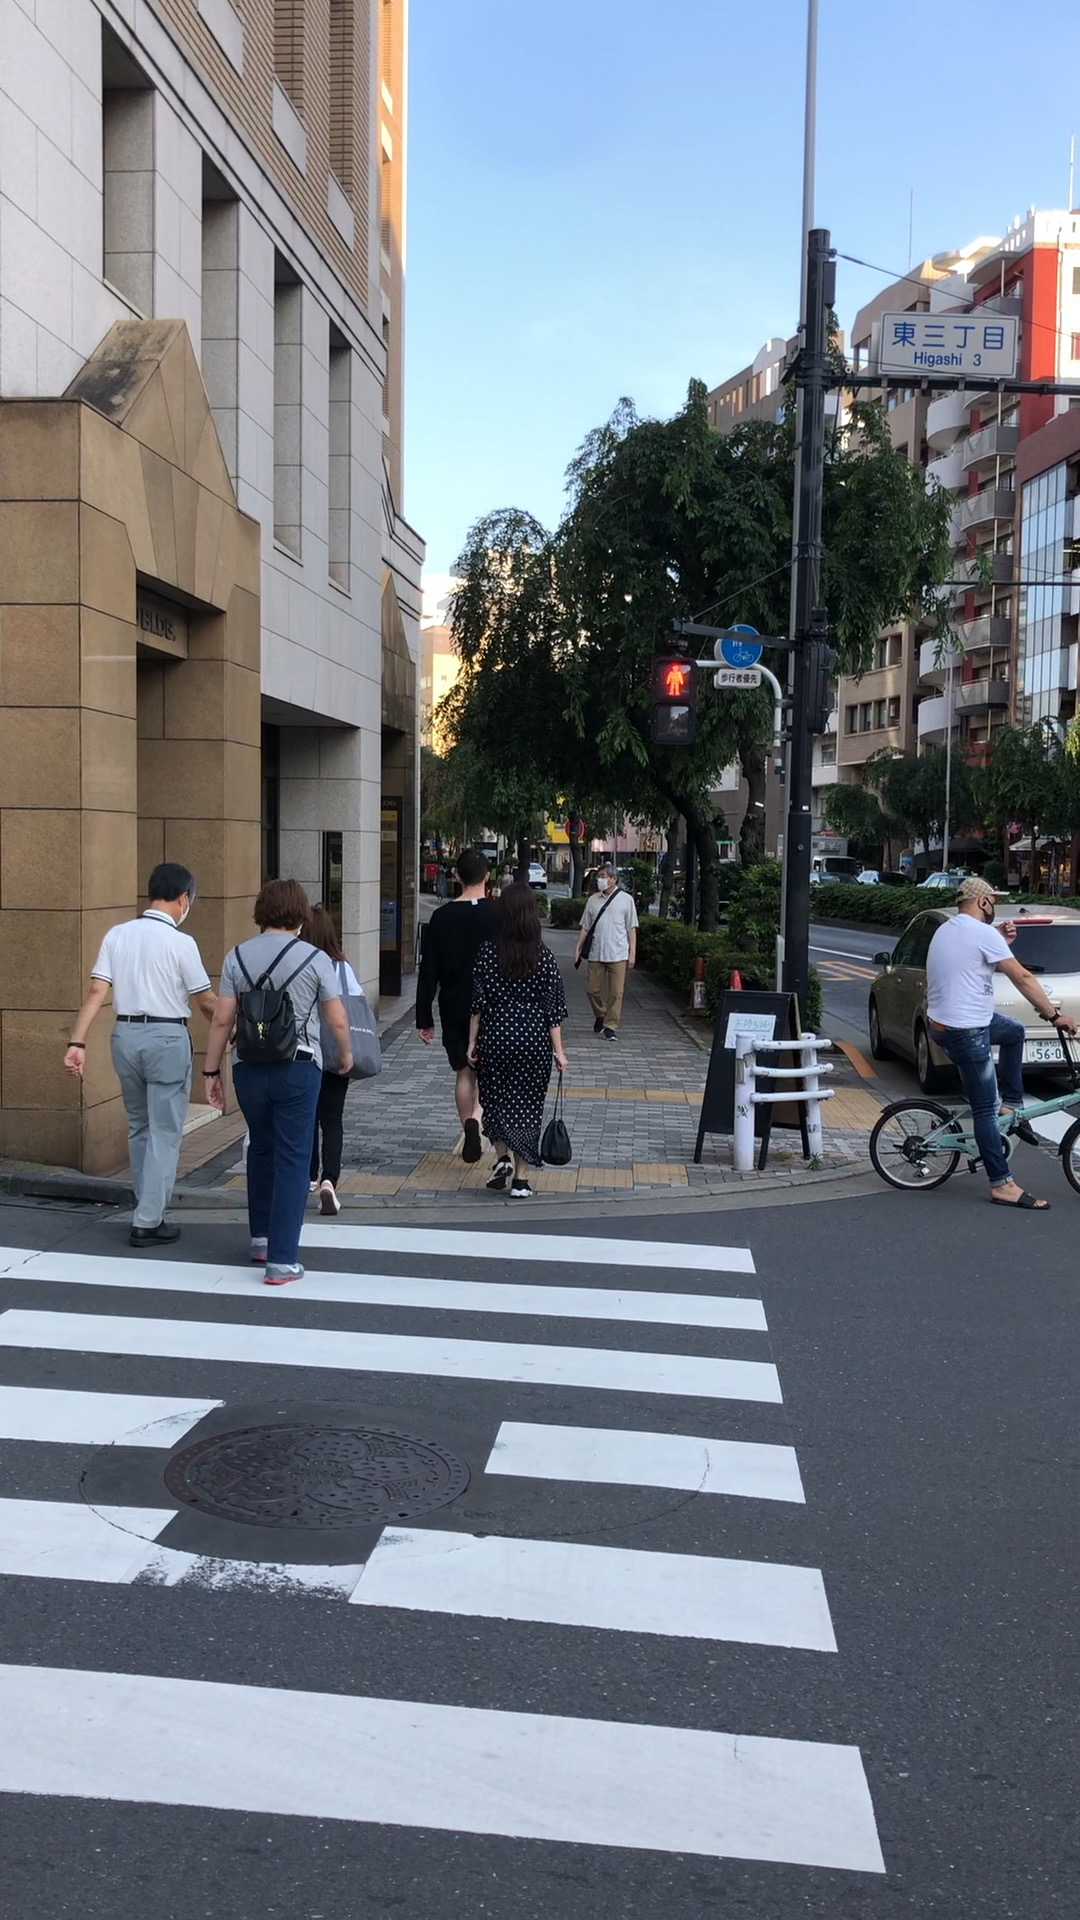red: (650, 657, 698, 746)
